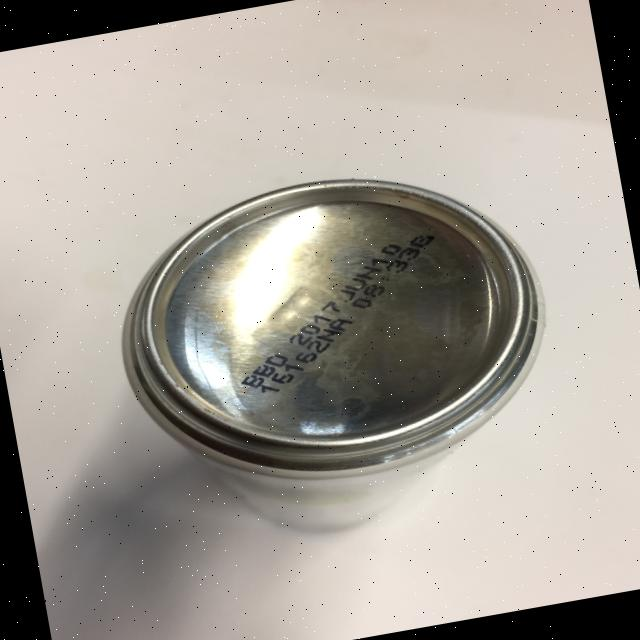metal: (96, 144, 568, 516)
